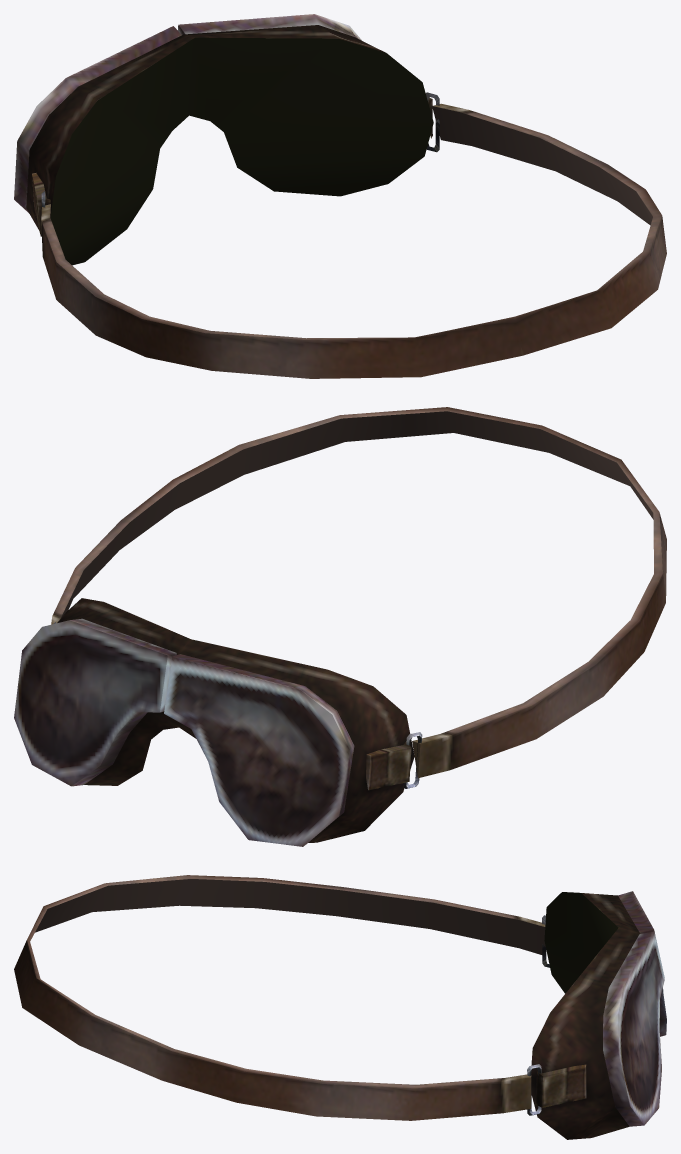
File: Googles.FBX
3 renders of one model, top to bottom at view 1: azimuth 30°, elevation 25°; view 2: azimuth 150°, elevation 25°; view 3: azimuth 270°, elevation 25°, orthographic. The views are drawn at different scales.
Parts seen in each view (by area): view 1: helmet001; view 2: helmet001; view 3: helmet001.
Part boxes in pixels (x1=…): helmet001: x1=14, y1=14, x2=666, y2=378; helmet001: x1=14, y1=407, x2=666, y2=846; helmet001: x1=14, y1=875, x2=666, y2=1139.
Bounding box in the file's own units: 0.1799 × 0.2298 × 0.0633.
